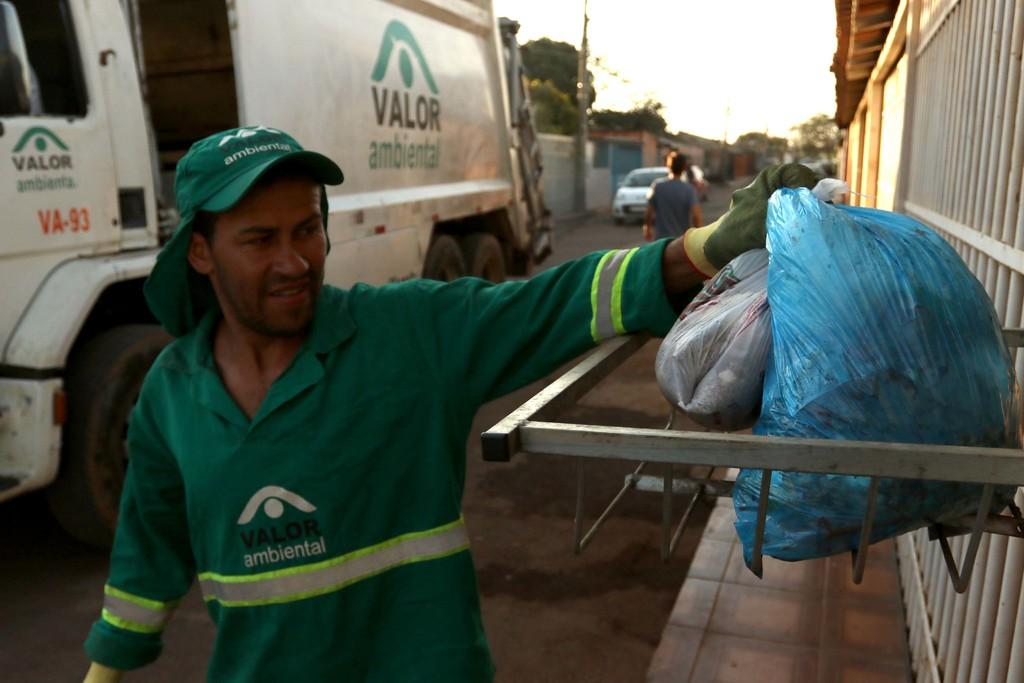Hat: (140, 122, 344, 328)
